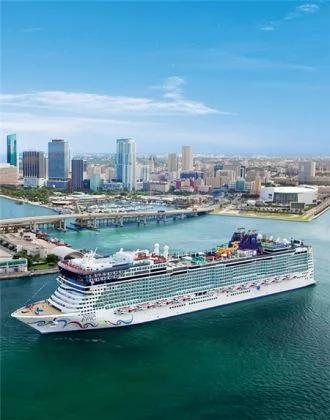youlun: (6, 223, 317, 337)
